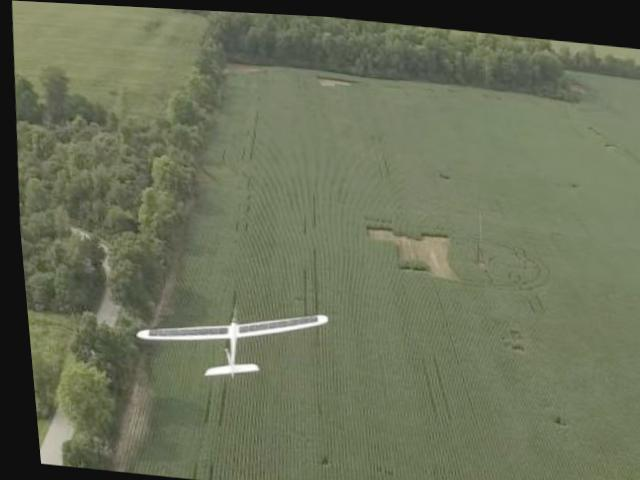uav: (110, 280, 337, 401)
